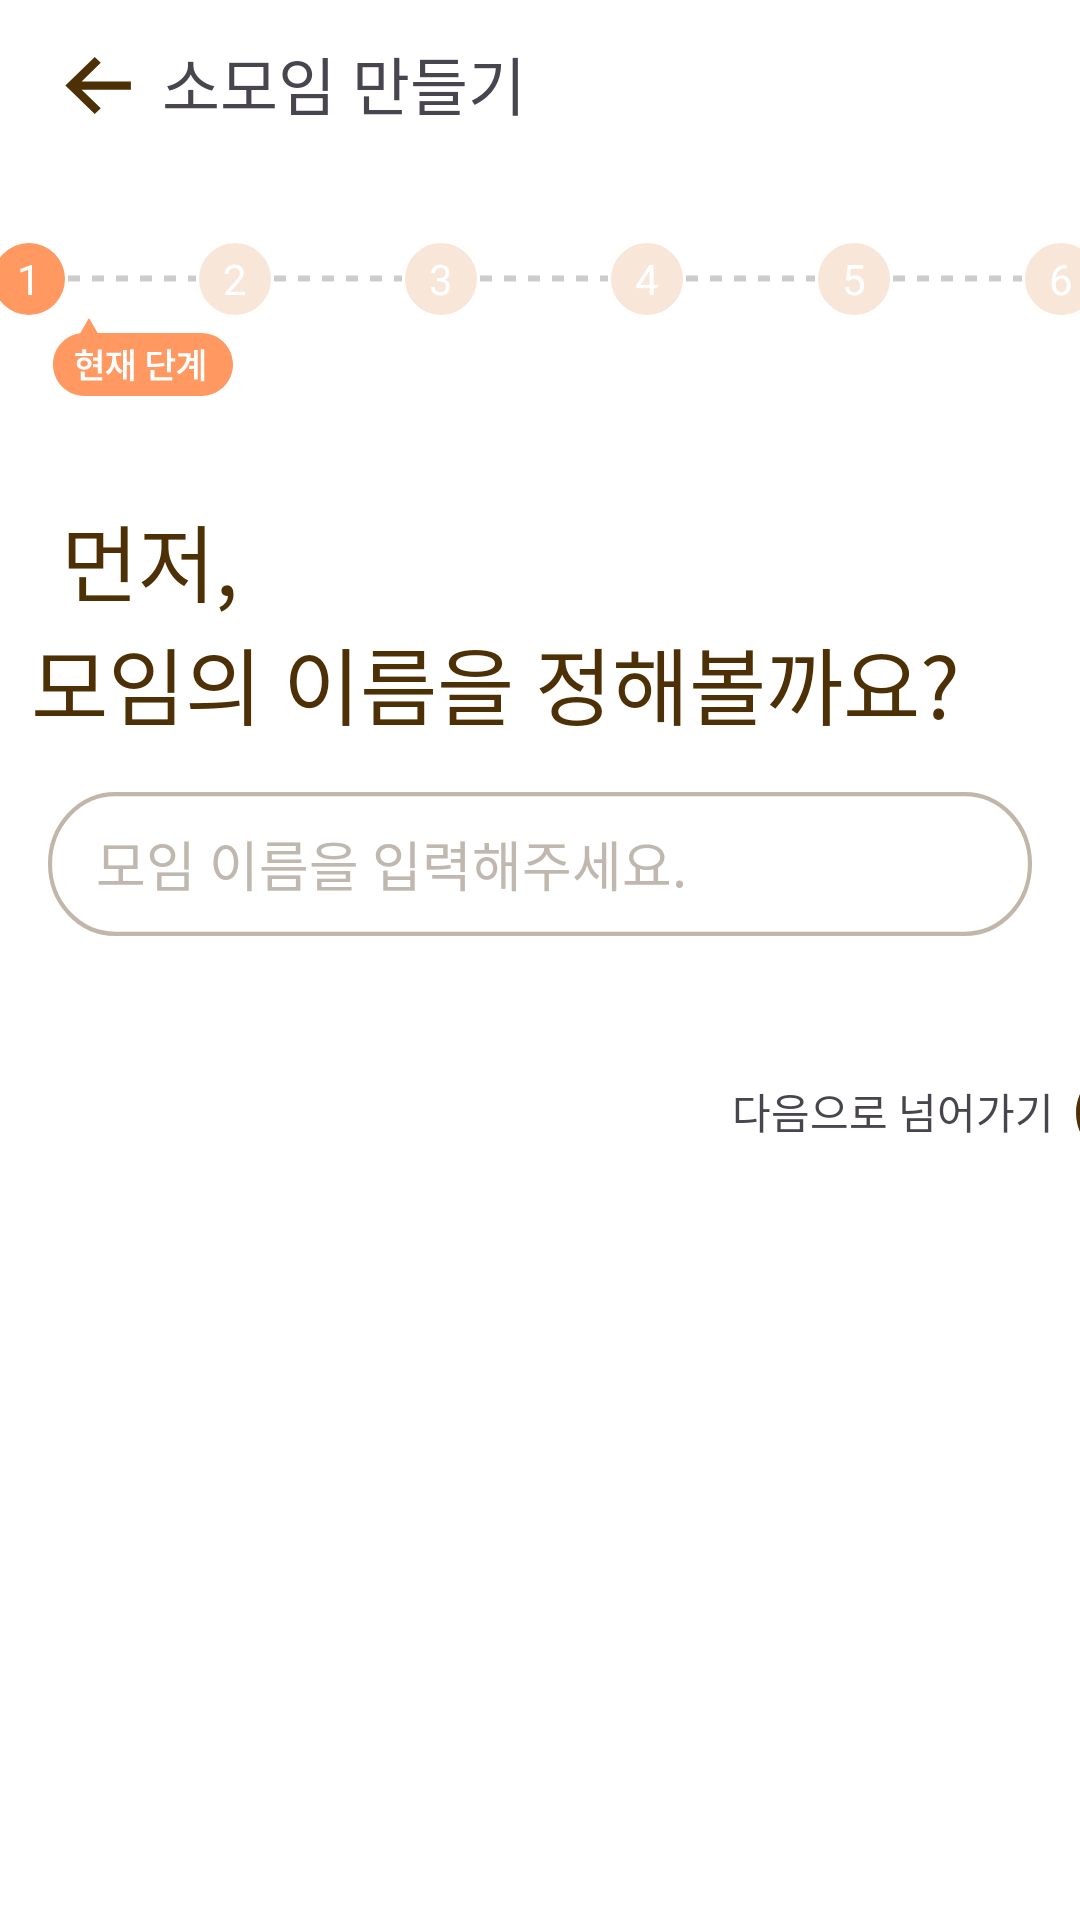

Screen size 1080px x 1920px. Icon name, then its box in pixels as (x1, y1, x2, y2):
meeting backbutton: (65, 57, 131, 114)
